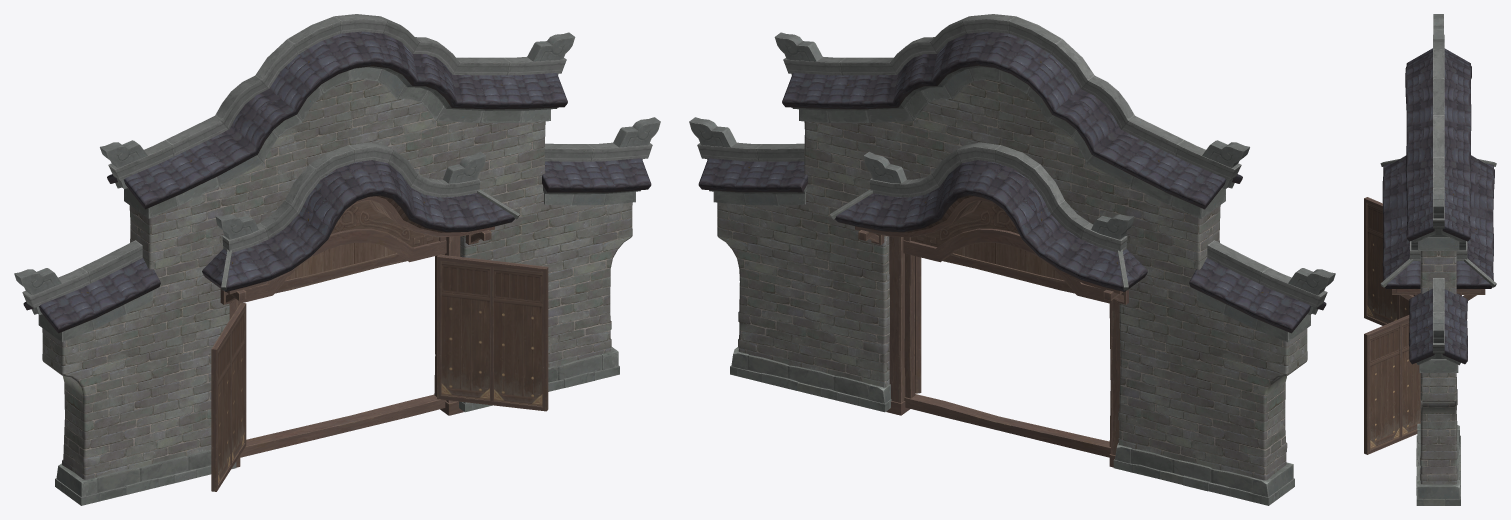
Rendered from Homeworld_Exterior_Cyg_Build_YlbDamen_01_Lod0.fbx.
The picture shows the model from 3 angles, left to right: view 1: azimuth 30°, elevation 25°; view 2: azimuth 150°, elevation 25°; view 3: azimuth 270°, elevation 25°; orthographic projection. The views are drawn at different scales.
Parts seen in each view (by area): view 1: Area_Cyg_Build_YLB_Comp_Damen_01_Lod0; view 2: Area_Cyg_Build_YLB_Comp_Damen_01_Lod0; view 3: Area_Cyg_Build_YLB_Comp_Damen_01_Lod0.
Part boxes in pixels (box(x1,y1,x2,y2)): Area_Cyg_Build_YLB_Comp_Damen_01_Lod0: box(14, 14, 660, 505); Area_Cyg_Build_YLB_Comp_Damen_01_Lod0: box(689, 14, 1335, 505); Area_Cyg_Build_YLB_Comp_Damen_01_Lod0: box(1364, 14, 1496, 505).
Size of what is drawn, in the model's own units: 16 by 9.96 by 3.42.
